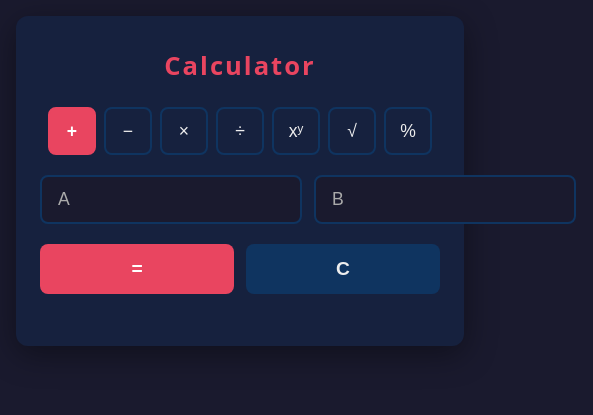
Test case: Calculator › validates empty input A
The image size is (593, 415).
Click the button "=" at x=137, y=269, box x1=40 y1=244 x2=234 y2=294
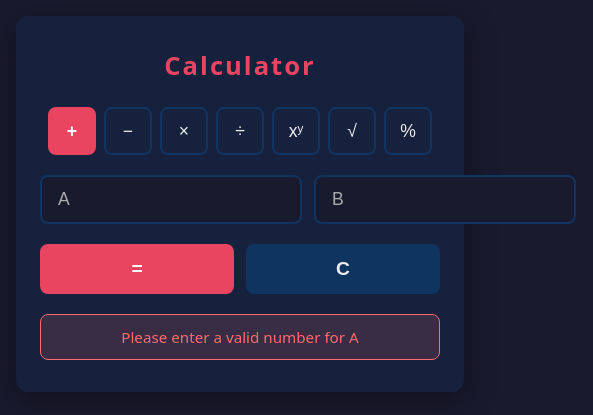
Expected: the message reads "Please enter a valid number for A", x1=121 y1=327 x2=359 y2=347
